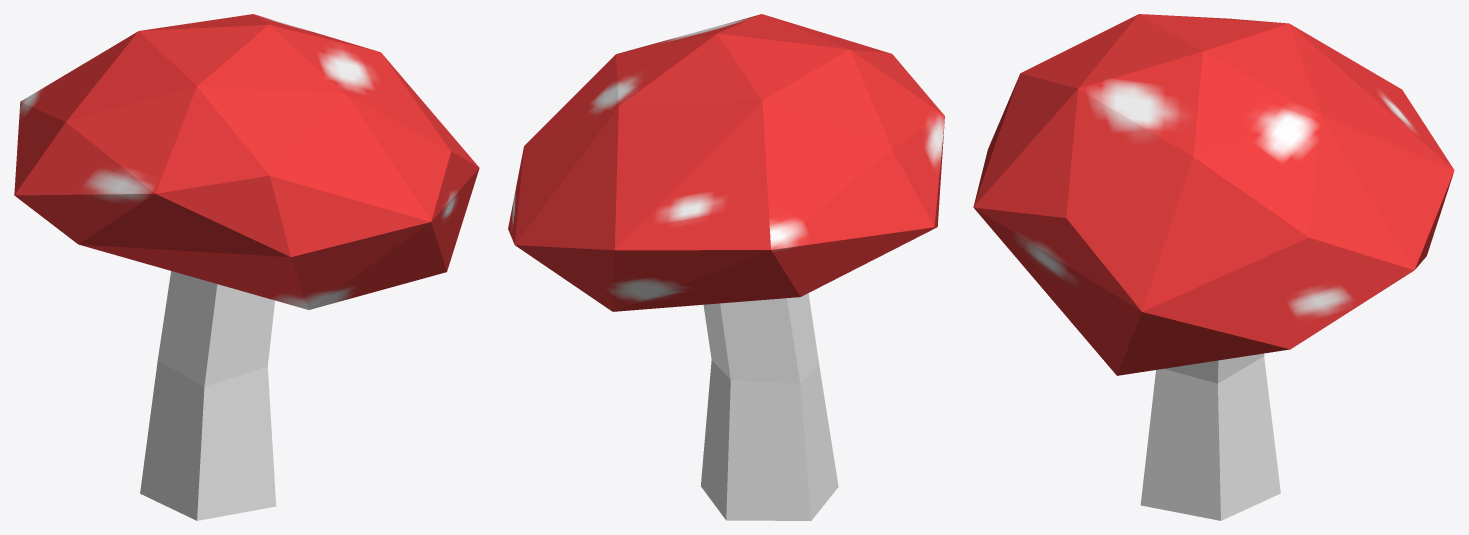
The model's file is Mushroom_e_03.fbx.
The picture shows the model from 3 angles, left to right: view 1: azimuth 30°, elevation 25°; view 2: azimuth 150°, elevation 25°; view 3: azimuth 270°, elevation 25°; orthographic projection. The views are drawn at different scales.
Parts seen in each view (by area): view 1: Mushroom_e_03; view 2: Mushroom_e_03; view 3: Mushroom_e_03.
Boxes of the visible parts, x1,y1,x2,y2 form: Mushroom_e_03: (14,14,479,520); Mushroom_e_03: (508,14,944,520); Mushroom_e_03: (973,14,1454,520).
Size of the model in its own units: 24.32 by 25.21 by 23.62.
